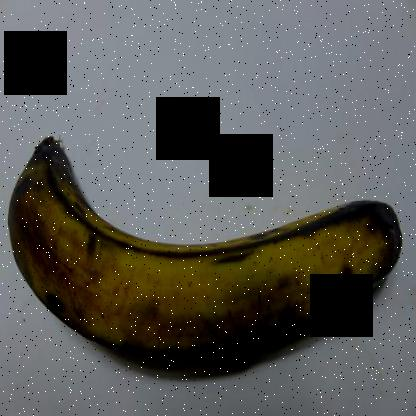rotten: (1, 123, 404, 389)
